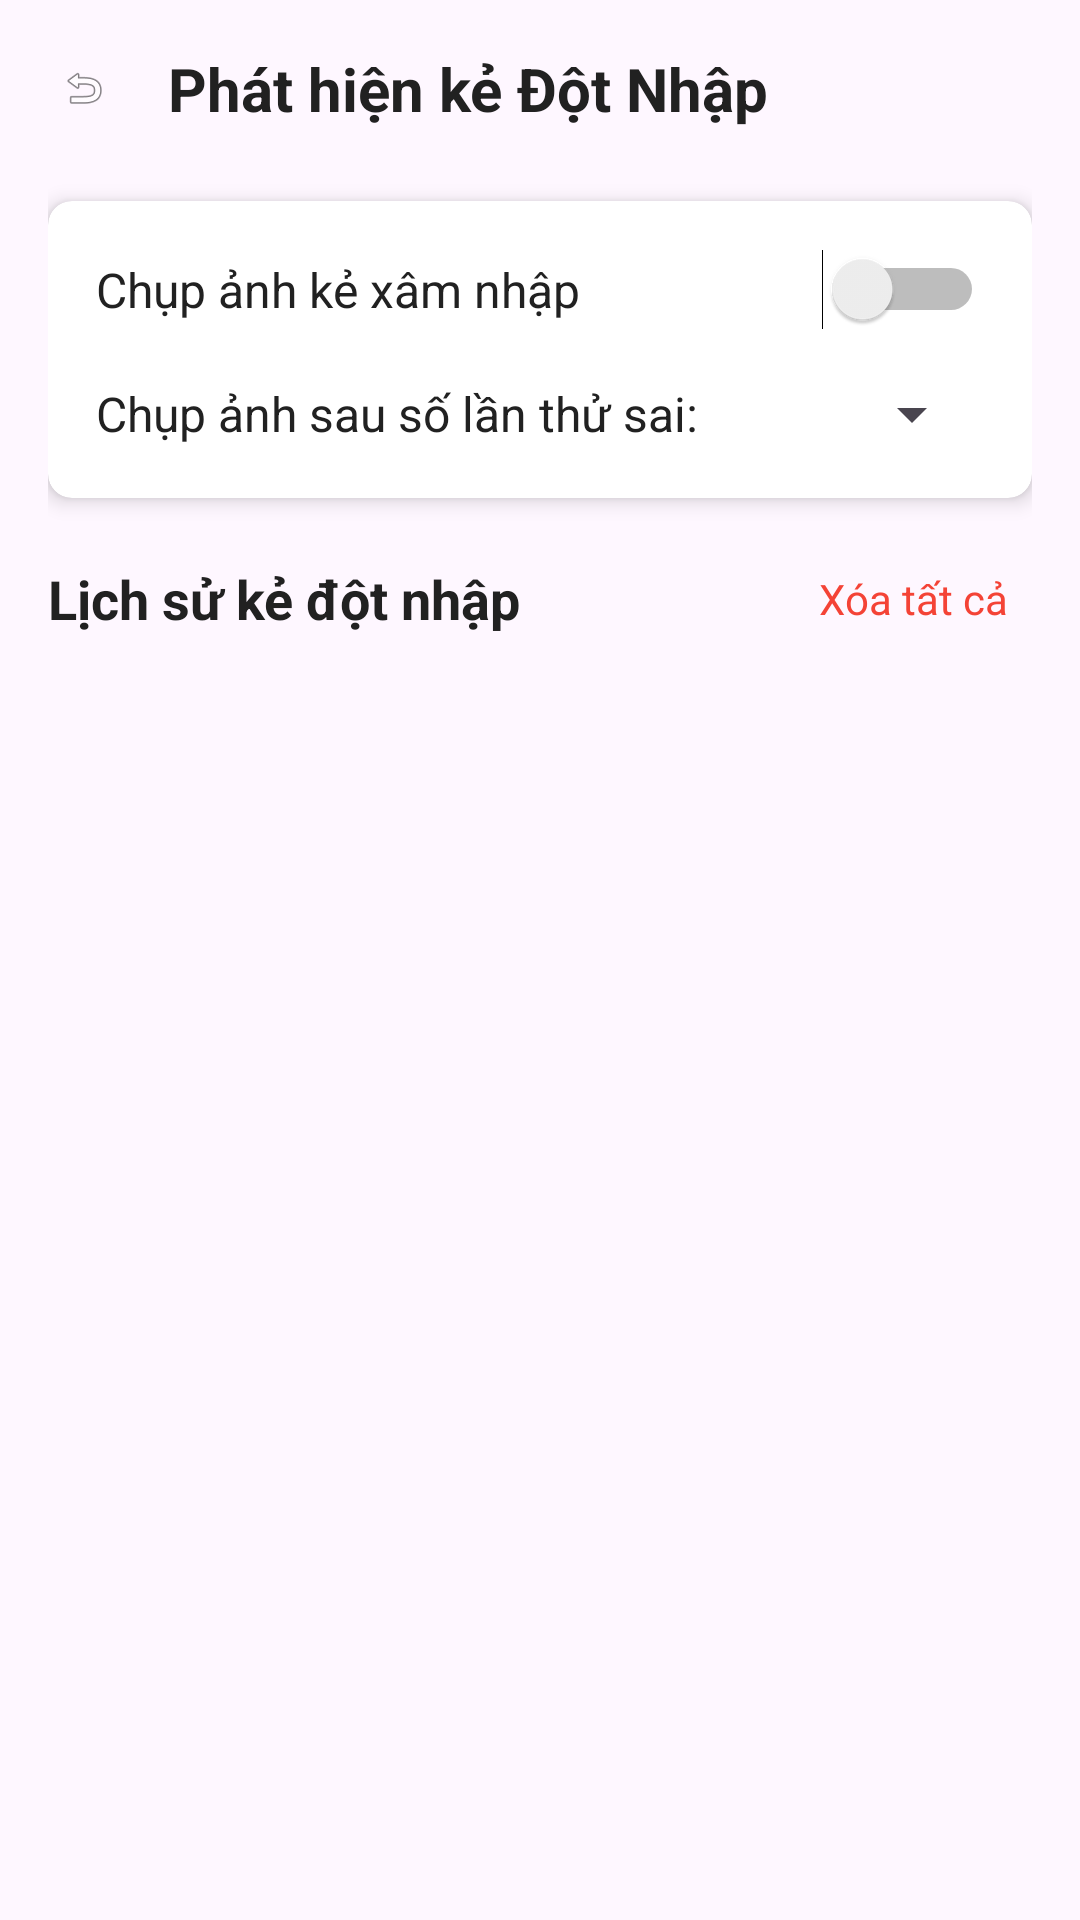

Where to tap for icons on this 1080px×1920px app screen, as (x,y):
revert: (84,88)
